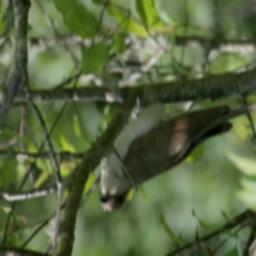Cuckoo: (99, 85, 256, 214)
